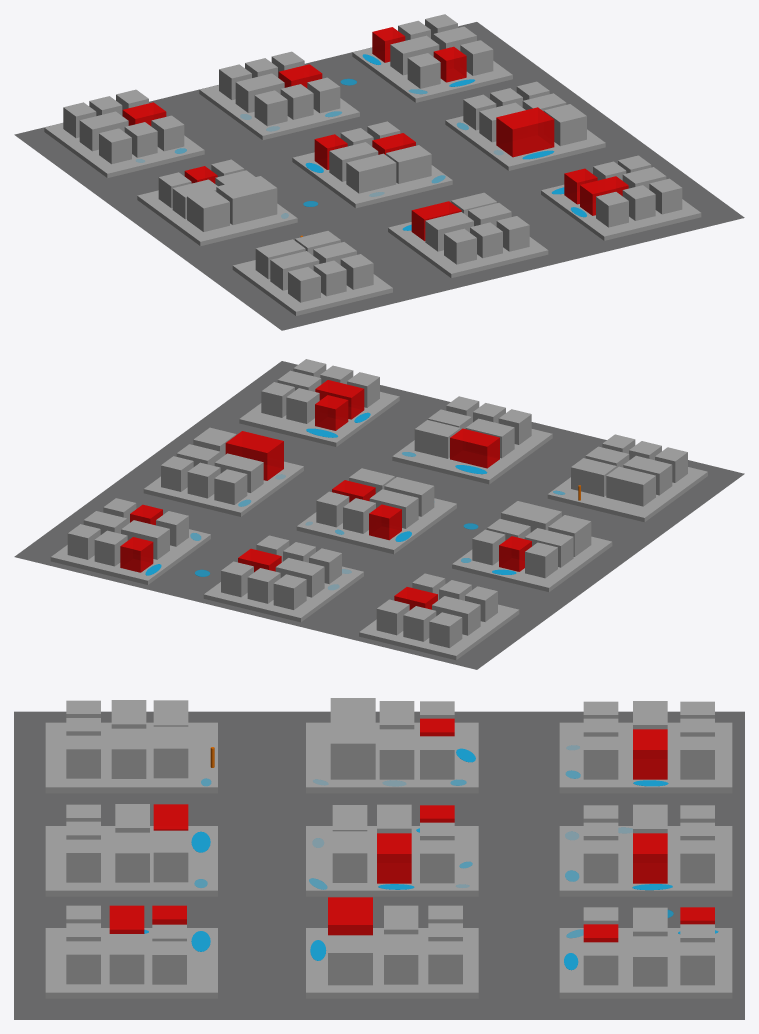
File: LevelPrototipo_MG2_M2.fbx
3 renders of one model, top to bottom at view 1: azimuth 30°, elevation 25°; view 2: azimuth 150°, elevation 25°; view 3: azimuth 270°, elevation 25°, orthographic. The views are drawn at different scales.
Visible parts, largest first — view 1: pPlane1, pCube9, pCube8, pCube6, pCube2, pCube5, pCube1, pCube47, pCube7, pCube3, pCube4, pCube58 (+49 smaller); view 2: pPlane1, pCube1, pCube2, pCube3, pCube6, pCube5, pCube9, pCube8, pCube4, pCube7, pCube47, pCube19 (+53 smaller); view 3: pPlane1, pCube1, pCube8, pCube9, pCube6, pCube7, pCube2, pCube3, pCube5, pCube4, pCube58, pCube48 (+65 smaller).
Boxes of the visible parts, left/top/right/bottom form: pPlane1: left=14, top=22, right=744, bottom=330; pCube9: left=199, top=85, right=359, bottom=139; pCube8: left=44, top=123, right=204, bottom=177; pCube6: left=292, top=152, right=452, bottom=208; pCube2: left=388, top=222, right=548, bottom=278; pCube5: left=137, top=190, right=297, bottom=245; pCube1: left=232, top=260, right=392, bottom=315; pCube47: left=496, top=107, right=554, bottom=157; pCube7: left=352, top=47, right=512, bottom=102; pCube3: left=541, top=184, right=701, bottom=240; pCube4: left=445, top=116, right=605, bottom=170; pCube58: left=216, top=176, right=277, bottom=224; pPlane1: left=14, top=361, right=744, bottom=669; pCube1: left=547, top=467, right=707, bottom=522; pCube2: left=392, top=429, right=552, bottom=484; pCube3: left=239, top=391, right=399, bottom=446; pCube6: left=296, top=498, right=456, bottom=554; pCube5: left=452, top=536, right=612, bottom=591; pCube9: left=203, top=566, right=363, bottom=622; pCube8: left=359, top=604, right=519, bottom=660; pCube4: left=143, top=461, right=303, bottom=516; pCube7: left=50, top=529, right=210, bottom=584; pCube47: left=225, top=431, right=283, bottom=480; pCube19: left=450, top=428, right=499, bottom=468; pPlane1: left=14, top=711, right=744, bottom=1019; pCube1: left=45, top=722, right=217, bottom=793; pCube8: left=559, top=722, right=732, bottom=793; pCube9: left=559, top=826, right=732, bottom=896; pCube6: left=306, top=826, right=478, bottom=896; pCube7: left=559, top=928, right=732, bottom=998; pCube2: left=45, top=826, right=217, bottom=896; pCube3: left=45, top=928, right=217, bottom=998; pCube5: left=306, top=722, right=478, bottom=793; pCube4: left=306, top=928, right=478, bottom=998; pCube58: left=330, top=714, right=375, bottom=779; pCube48: left=328, top=935, right=372, bottom=985.
Size of the model in its own units: 23.95 by 1.61 by 24.
